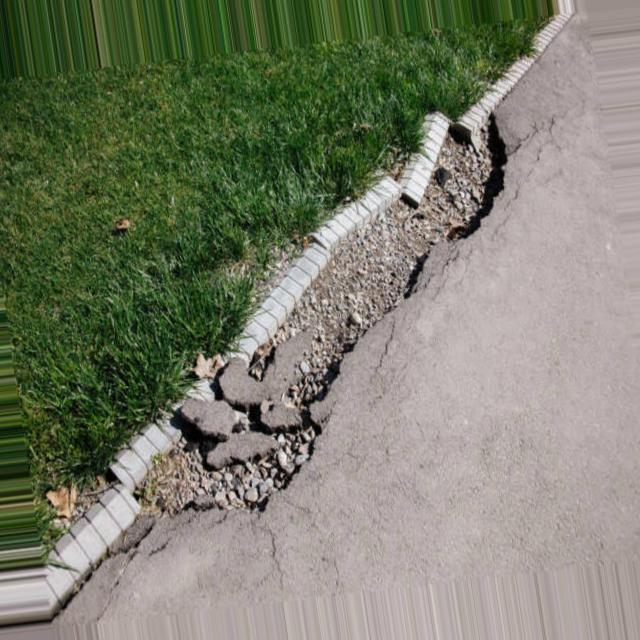Pinggir: (10, 50, 562, 640)
